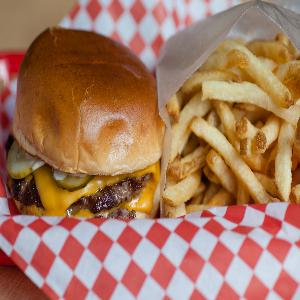cheeseburger_475cal: (6, 17, 161, 235)
fries_350cal: (168, 30, 300, 203)
